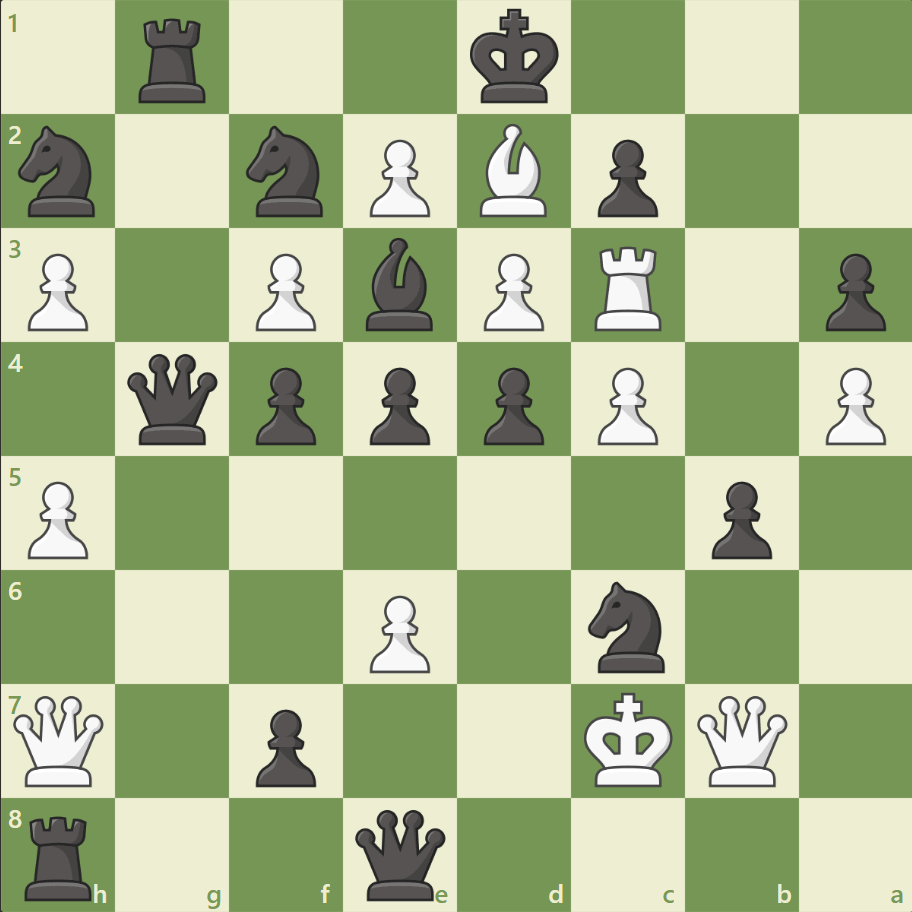B: (471, 120, 555, 222)
K: (579, 685, 679, 793)
P: (20, 473, 95, 564), (474, 246, 549, 337), (247, 246, 322, 337), (20, 246, 95, 337), (361, 586, 435, 677), (815, 359, 889, 450), (588, 359, 662, 450), (361, 132, 435, 223)
Q: (691, 690, 790, 789), (10, 690, 109, 789)
R: (587, 239, 670, 336)
b: (358, 233, 442, 336)
k: (465, 4, 565, 112)
n: (579, 575, 676, 677), (238, 121, 335, 223), (11, 121, 108, 223)
p: (247, 700, 322, 791), (701, 473, 776, 564), (474, 359, 549, 450), (247, 359, 322, 450), (361, 359, 435, 450), (815, 246, 889, 337), (588, 132, 662, 223)
q: (124, 349, 223, 449), (351, 804, 450, 903)
r: (19, 806, 102, 904), (133, 12, 215, 109)
